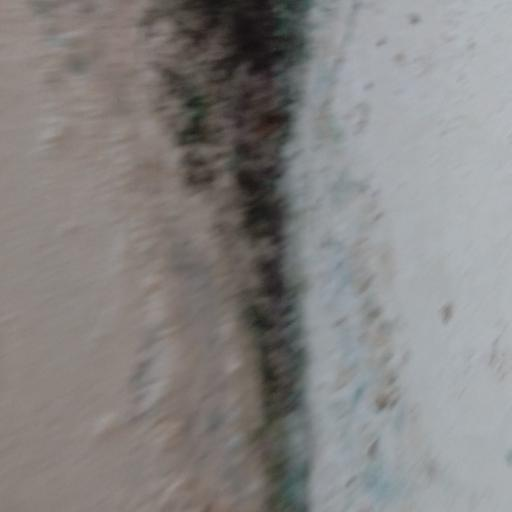algae: (129, 1, 391, 489)
